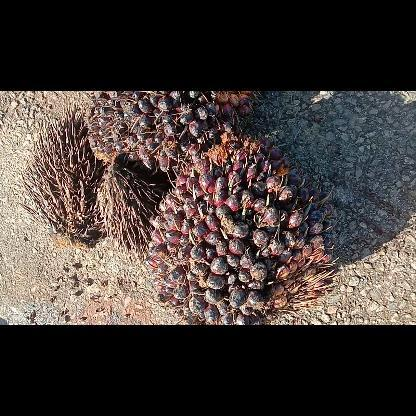Janjang kosong: (20, 100, 106, 250), (92, 162, 158, 263)
TBS mentah: (146, 132, 338, 324), (88, 91, 250, 171)
